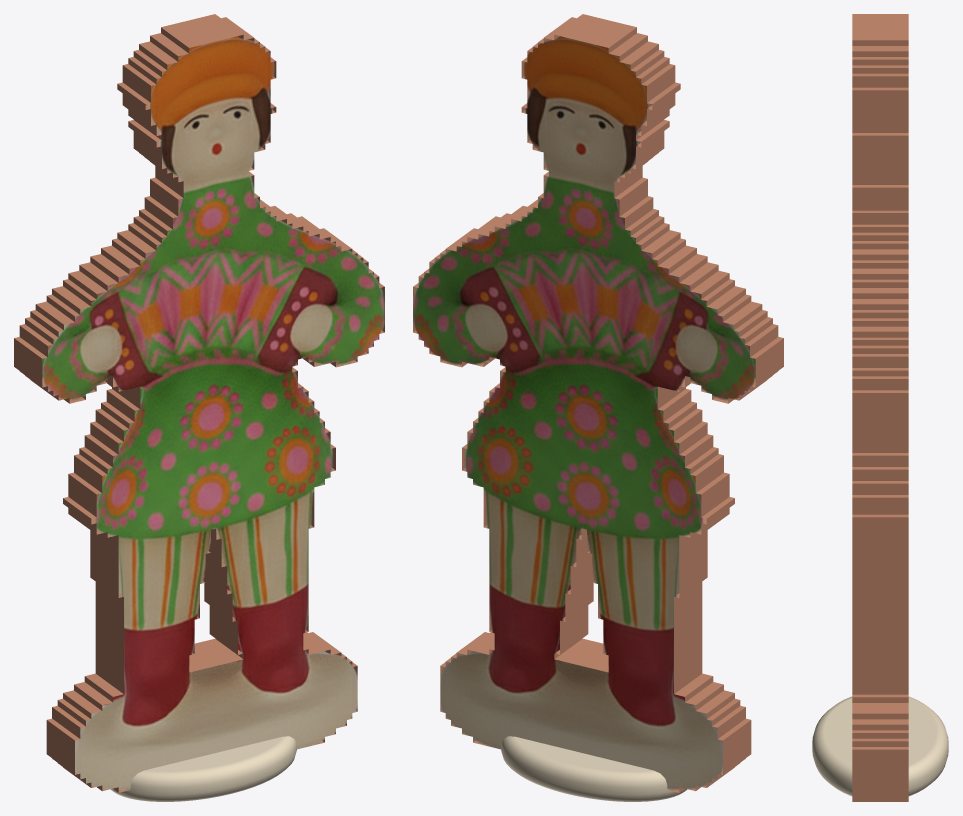
File: ar-accordion.glb
3 views of the same model, side by side, from view 1: azimuth 30°, elevation 25°; view 2: azimuth 150°, elevation 25°; view 3: azimuth 270°, elevation 25° (orthographic).
Parts seen in each view (by area): view 1: ToyArtworkSilhouette, SmallRoundedDisplayFoot; view 2: ToyArtworkSilhouette, SmallRoundedDisplayFoot; view 3: ToyArtworkSilhouette, SmallRoundedDisplayFoot.
Boxes of the visible parts, x1=… form: ToyArtworkSilhouette: x1=14, y1=14, x2=384, y2=792; SmallRoundedDisplayFoot: x1=111, y1=736, x2=296, y2=801; ToyArtworkSilhouette: x1=413, y1=14, x2=783, y2=792; SmallRoundedDisplayFoot: x1=501, y1=736, x2=686, y2=801; ToyArtworkSilhouette: x1=852, y1=14, x2=908, y2=801; SmallRoundedDisplayFoot: x1=812, y1=696, x2=948, y2=796.
Bounding box in the file's own units: 0.0977 × 0.202 × 0.034.
Materials: 3 (1 with a texture image).
